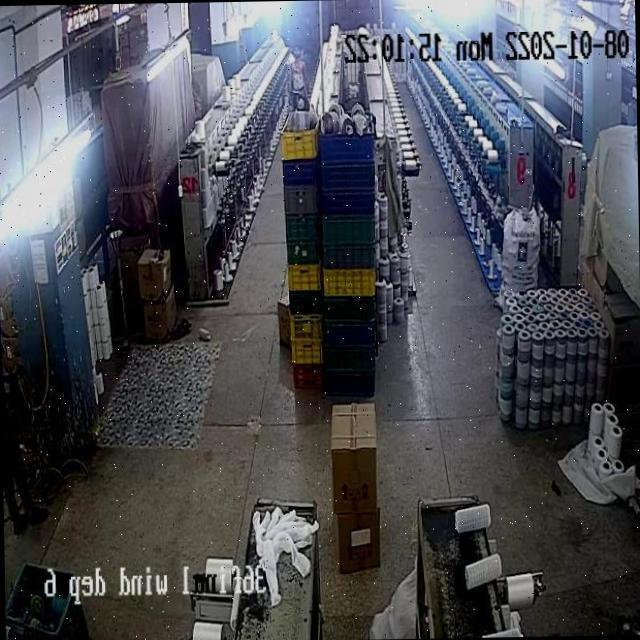person: (1, 361, 36, 540), (288, 42, 304, 105)
